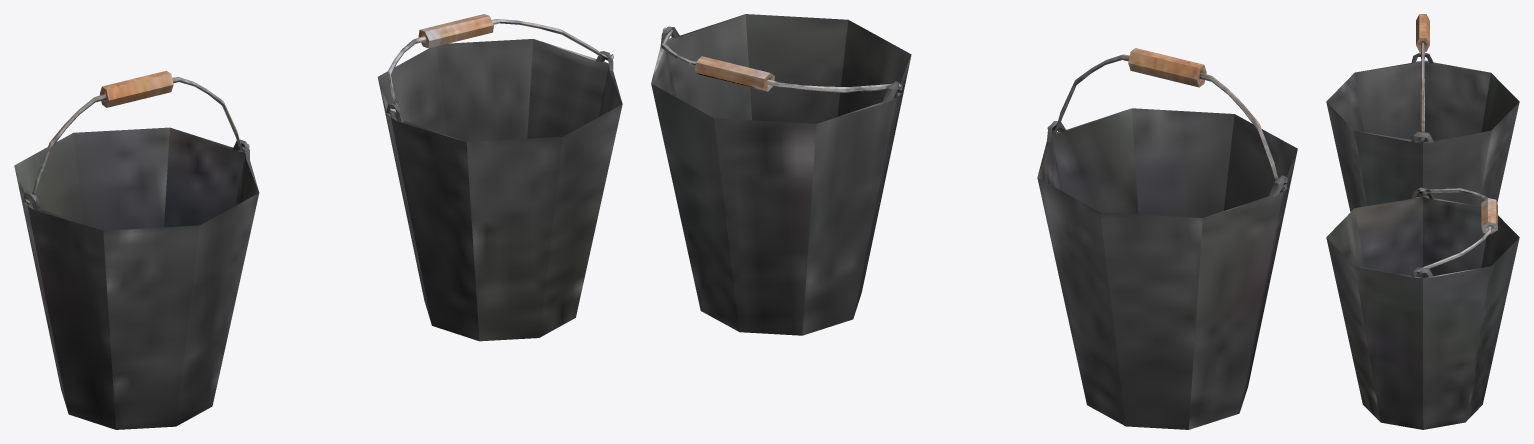
File: BUCKET.fbx
The picture shows the model from 3 angles, left to right: view 1: azimuth 30°, elevation 25°; view 2: azimuth 150°, elevation 25°; view 3: azimuth 270°, elevation 25°; orthographic projection. The views are drawn at different scales.
Parts seen in each view (by area): view 1: Bucket, Handle.001; view 2: Bucket, Handle.001; view 3: Handle.001, Bucket.
Boxes of the visible parts, <box> form: Bucket: <box>14,70,259,429</box>; Handle.001: <box>377,14,622,341</box>; Bucket: <box>1037,48,1297,429</box>; Handle.001: <box>651,14,911,335</box>; Handle.001: <box>1326,187,1519,429</box>; Bucket: <box>1326,14,1519,211</box>.
Bounding box in the file's own units: 93.05 × 48.17 × 34.75.
